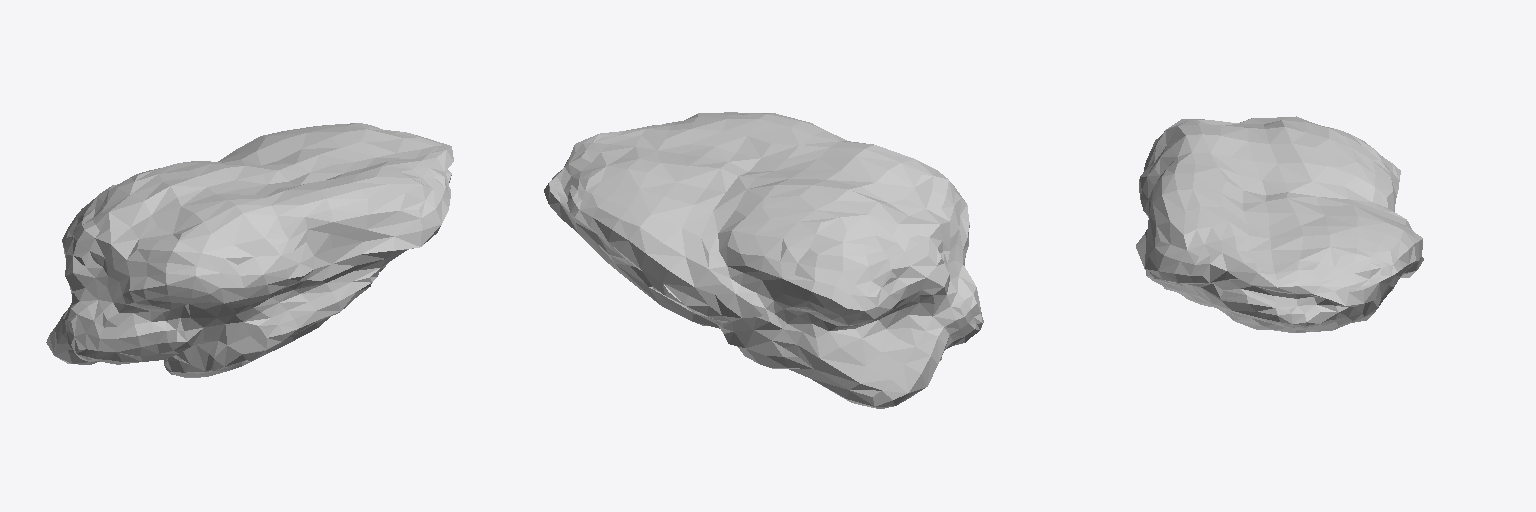
Rendered from Rock.obj.
3 views of the same model, side by side, from view 1: azimuth 30°, elevation 25°; view 2: azimuth 150°, elevation 25°; view 3: azimuth 270°, elevation 25° (orthographic).
Visible parts, largest first — view 1: Rock; view 2: Rock; view 3: Rock.
Part boxes in pixels (bbox=[...]): Rock: bbox=[46, 123, 453, 377]; Rock: bbox=[544, 112, 983, 408]; Rock: bbox=[1136, 116, 1423, 332].
Bounding box in the file's own units: 3.83 × 1.71 × 2.4.